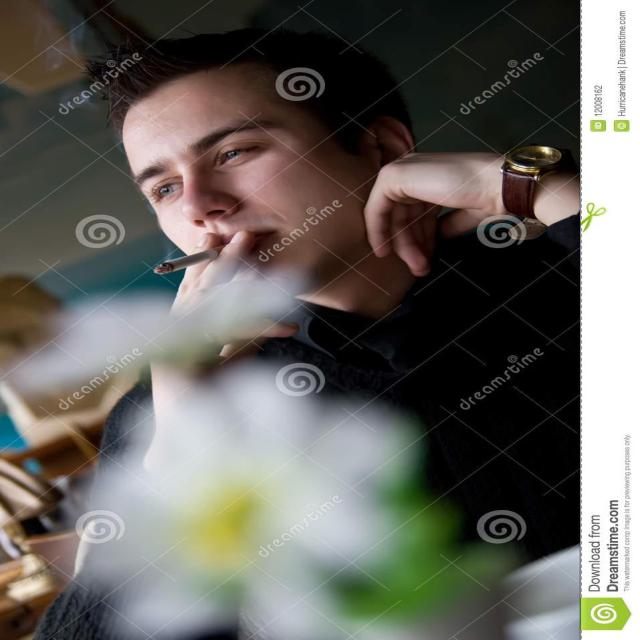cigarette: (122, 243, 241, 286)
